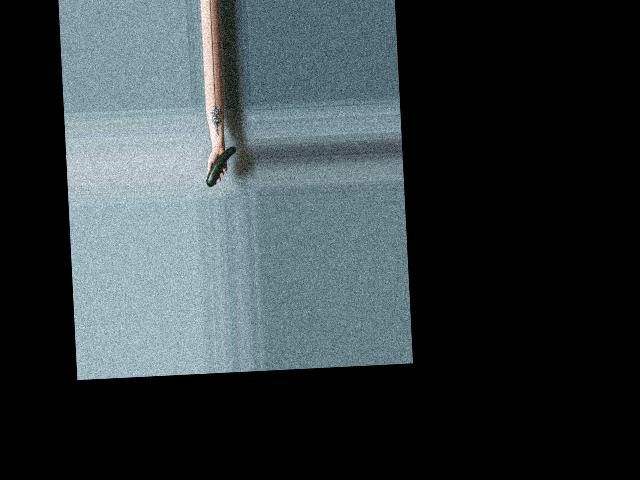cucumber: (205, 146, 238, 187)
